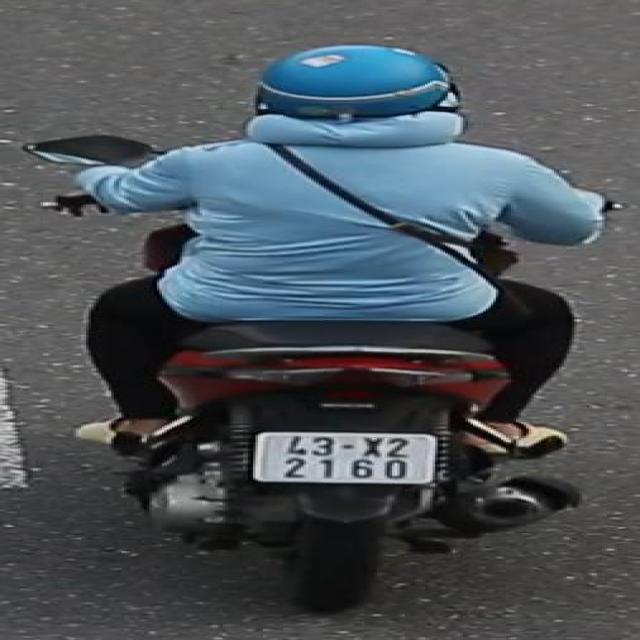LP: (247, 429, 444, 491)
helmet: (246, 38, 466, 152)
